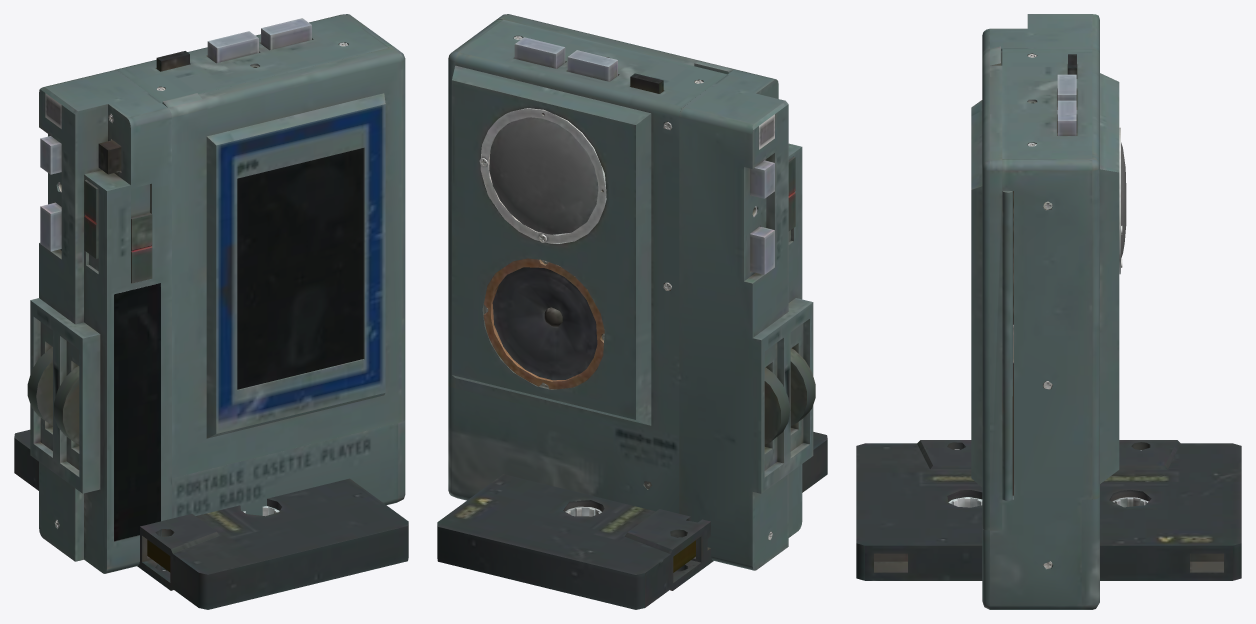
Rendered from walkman.glb.
3 views of the same model, side by side, from view 1: azimuth 30°, elevation 25°; view 2: azimuth 150°, elevation 25°; view 3: azimuth 270°, elevation 25° (orthographic).
Parts seen in each view (by area): view 1: portable_cassette_player_lid, portable_cassette_player, portable_cassette_player_casette; view 2: portable_cassette_player, portable_cassette_player_casette, portable_cassette_player_lid; view 3: portable_cassette_player, portable_cassette_player_casette, portable_cassette_player_lid.
Part boxes in pixels (<box>): portable_cassette_player_lid: <box>162,47,405,478</box>; portable_cassette_player: <box>27,14,405,573</box>; portable_cassette_player_casette: <box>14,429,408,609</box>; portable_cassette_player: <box>448,19,815,570</box>; portable_cassette_player_casette: <box>437,432,827,609</box>; portable_cassette_player_lid: <box>497,14,735,74</box>; portable_cassette_player: <box>982,14,1126,609</box>; portable_cassette_player_casette: <box>856,440,1241,580</box>; portable_cassette_player_lid: <box>971,46,1012,530</box>.
Bounding box in the file's own units: 0.0983 × 0.1303 × 0.0983.
Materials: 2 (2 with a texture image).
